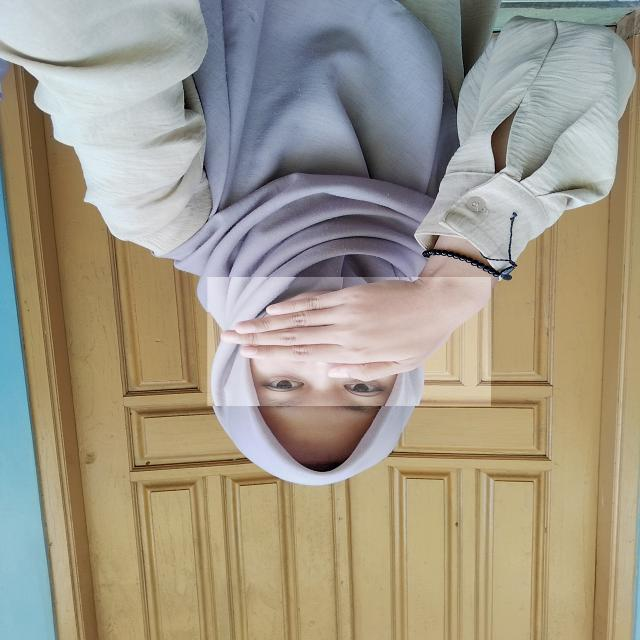buruk: (207, 277, 490, 406)
